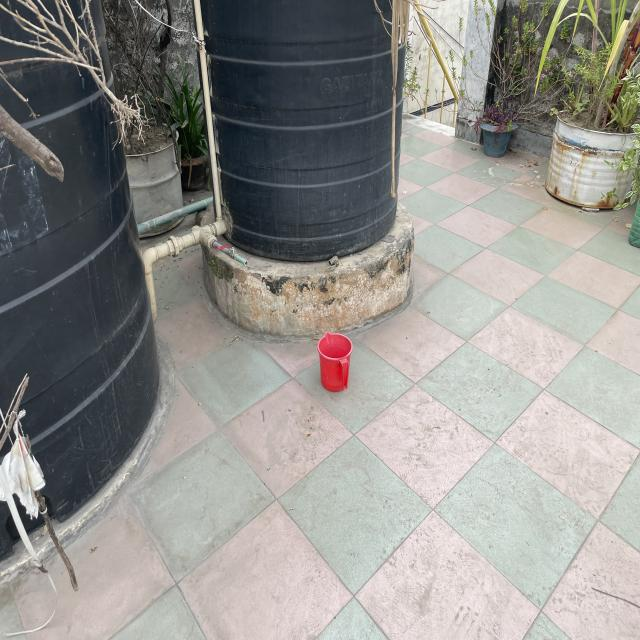Breeding Place: (548, 94, 640, 211), (118, 114, 190, 237), (310, 327, 360, 394), (479, 105, 518, 162)
